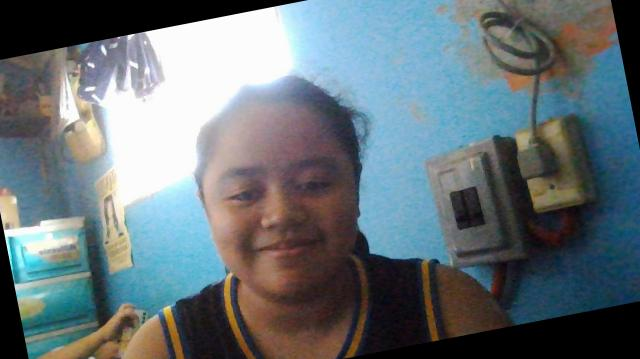senang: (183, 86, 374, 310)
